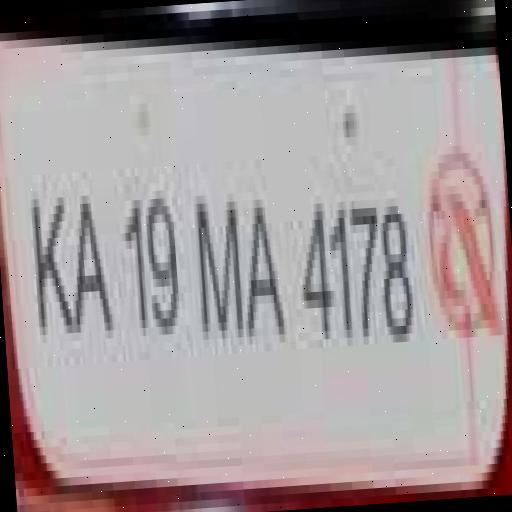number plate: (8, 6, 512, 512)
